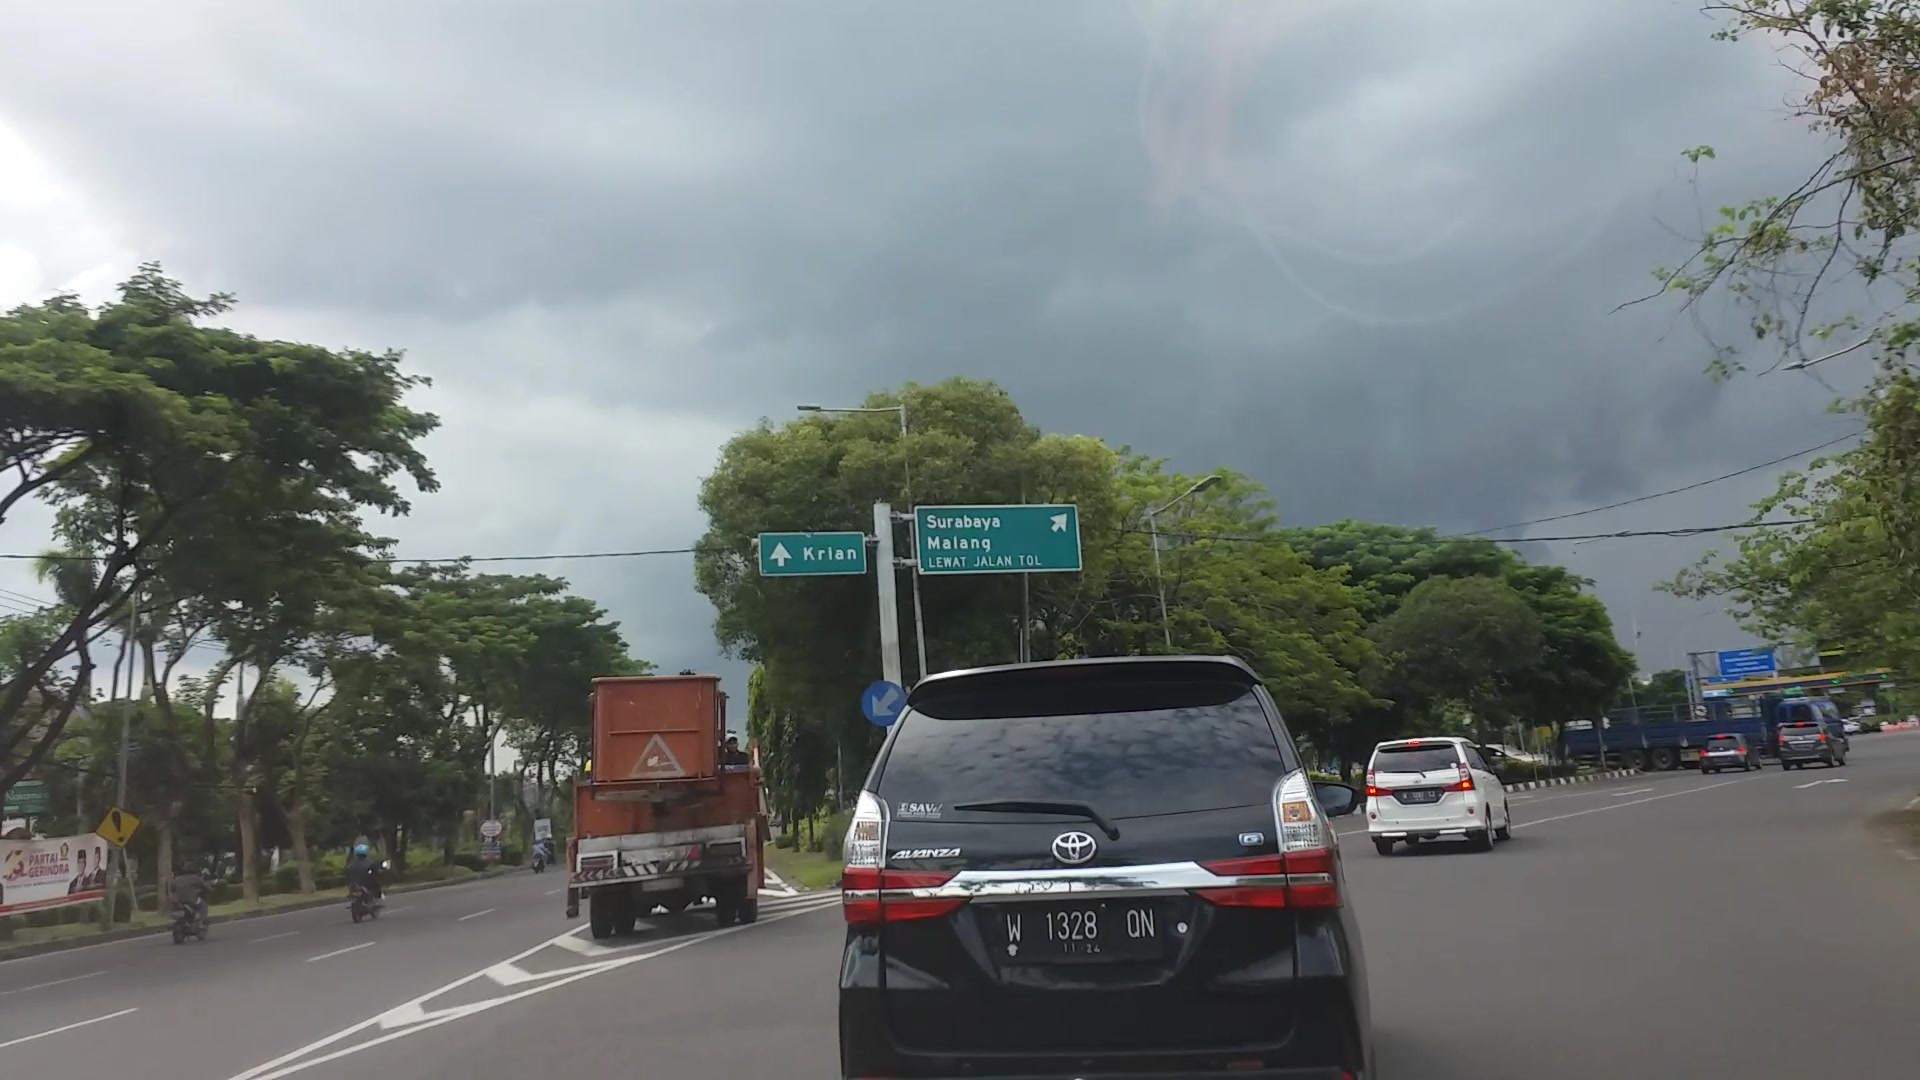plate_positive: (1000, 905, 1162, 964)
